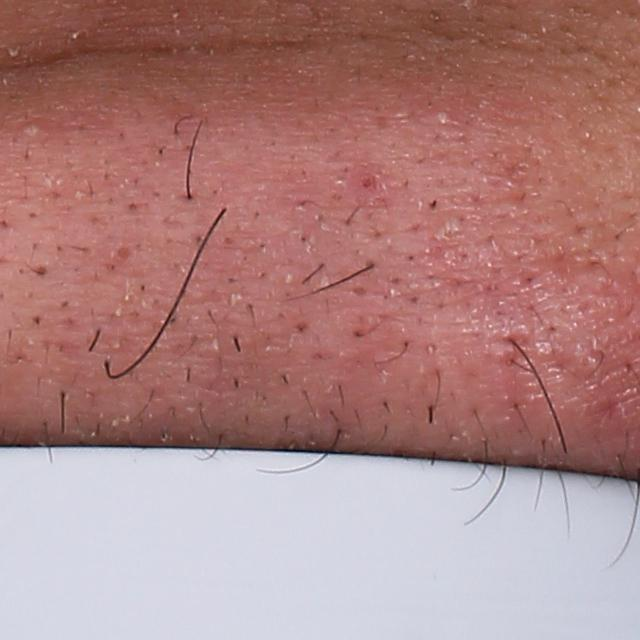comedo: (115, 243, 136, 260)
